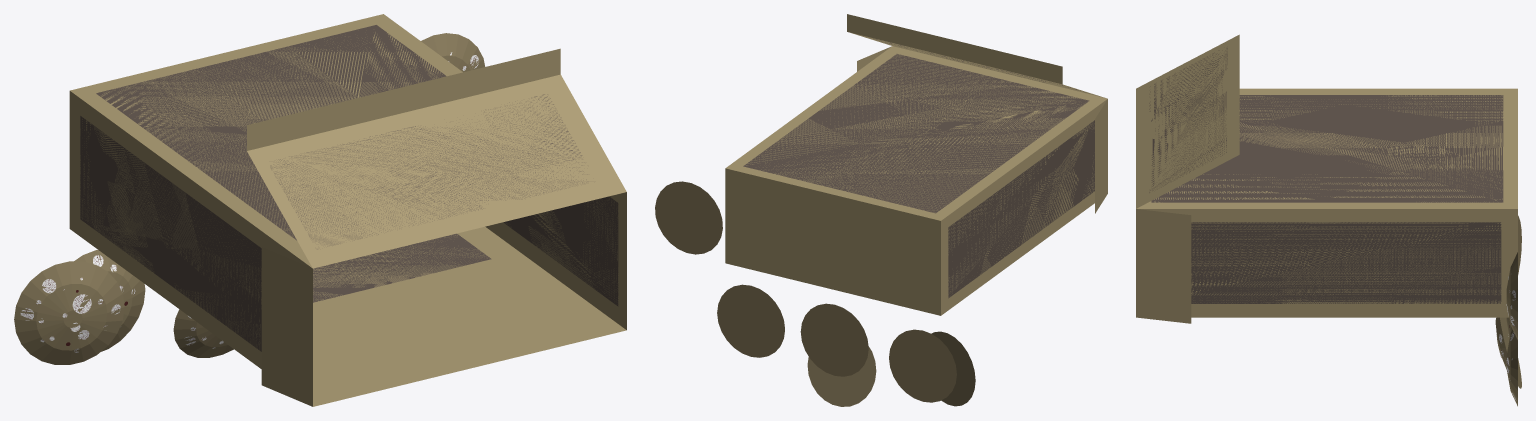
3 renders of one model, left to right at view 1: azimuth 30°, elevation 25°; view 2: azimuth 150°, elevation 25°; view 3: azimuth 270°, elevation 25°, orthographic. The views are drawn at different scales.
Parts seen in each view (by area): view 1: cicipopo chocolate chip cookies; view 2: cicipopo chocolate chip cookies; view 3: cicipopo chocolate chip cookies.
Part boxes in pixels (left/top/right/bottom): cicipopo chocolate chip cookies: left=14, top=14, right=626, bottom=406; cicipopo chocolate chip cookies: left=655, top=14, right=1107, bottom=406; cicipopo chocolate chip cookies: left=1136, top=34, right=1521, bottom=406.
Bounding box in the file's own units: 14.21 × 11.54 × 12.88.
